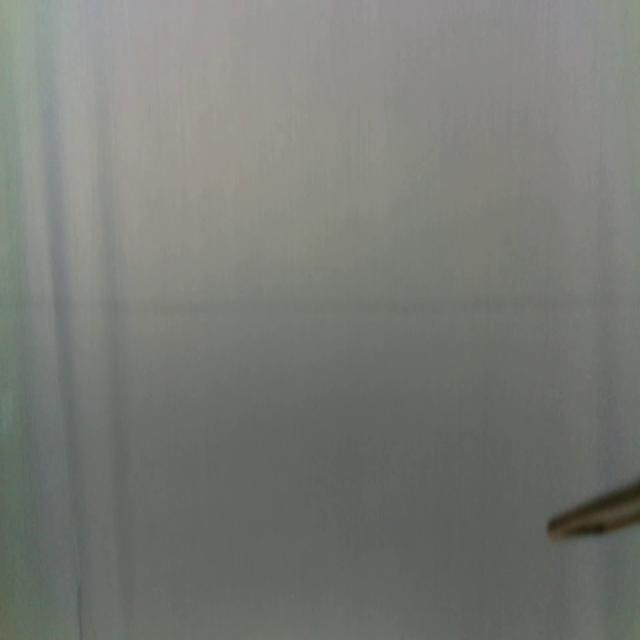color bleeding: (0, 291, 640, 324)
